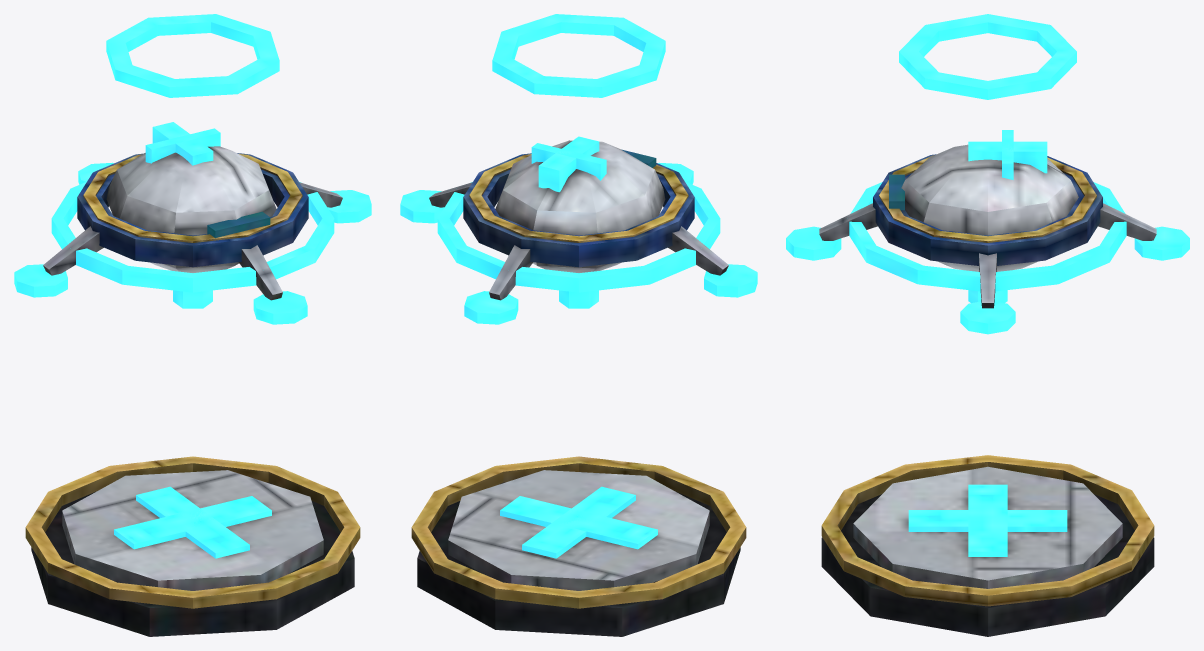
Rendered from u_medic4_w.glb.
The picture shows the model from 3 angles, left to right: view 1: azimuth 30°, elevation 25°; view 2: azimuth 150°, elevation 25°; view 3: azimuth 270°, elevation 25°; orthographic projection.
Visible parts, largest first — view 1: u_medic4_w; view 2: u_medic4_w; view 3: u_medic4_w.
Part boxes in pixels (bbox=[...]): u_medic4_w: bbox=[14, 14, 371, 636]; u_medic4_w: bbox=[400, 14, 757, 636]; u_medic4_w: bbox=[786, 14, 1189, 636].
Bounding box in the file's own units: 1.24 × 1.75 × 1.24.
1 material, 1 textured.
